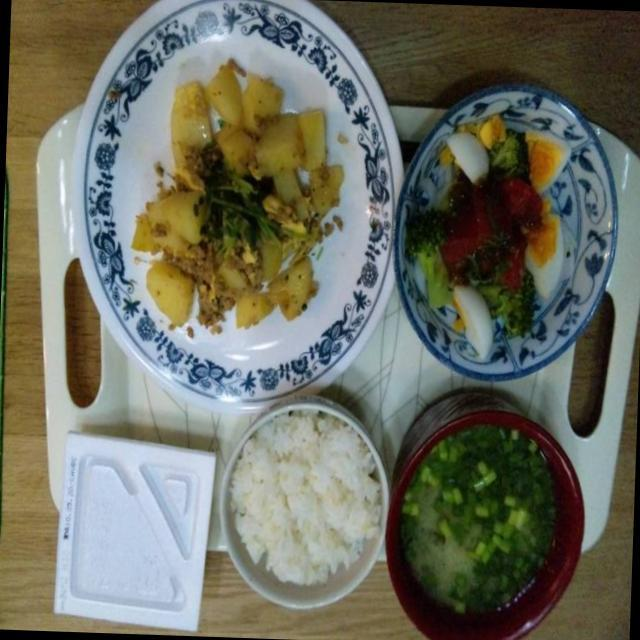Rice: (213, 380, 398, 616)
